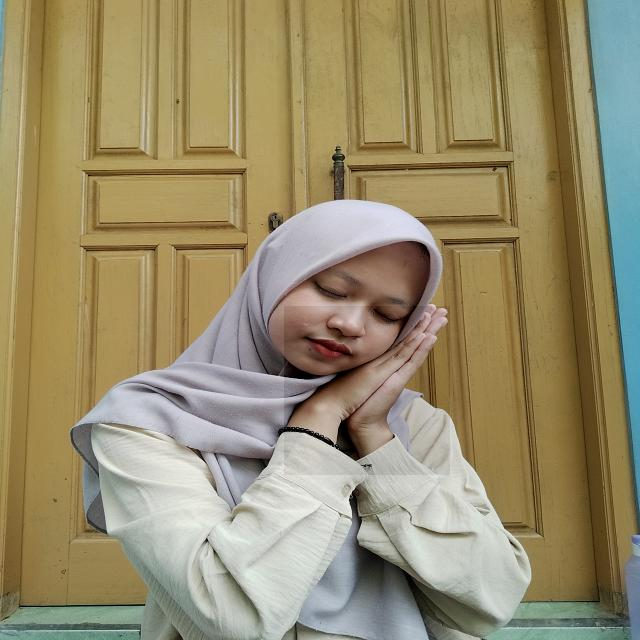tidur: (284, 306, 450, 475)
